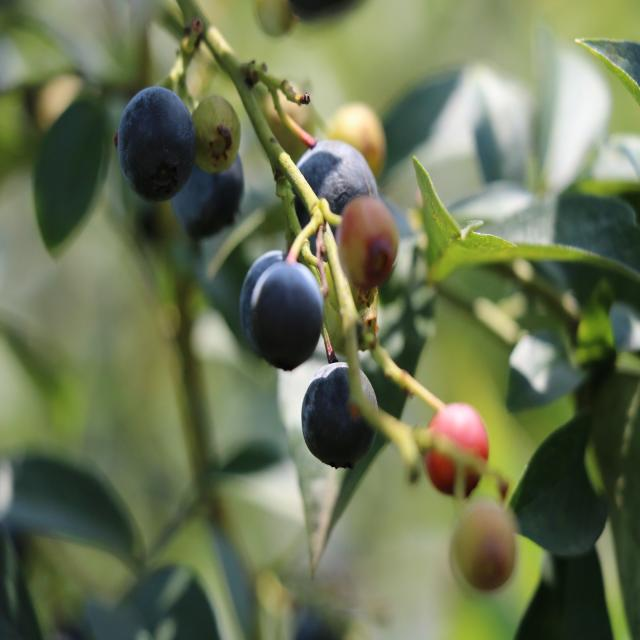blueberry: (276, 132, 384, 275), (102, 79, 199, 211), (294, 357, 384, 481), (241, 255, 329, 380), (165, 140, 252, 245), (231, 245, 292, 363)
blueberry-halfripe: (425, 403, 492, 497), (340, 195, 400, 285)
blueberry-unripe: (185, 84, 243, 178), (456, 500, 514, 582)
